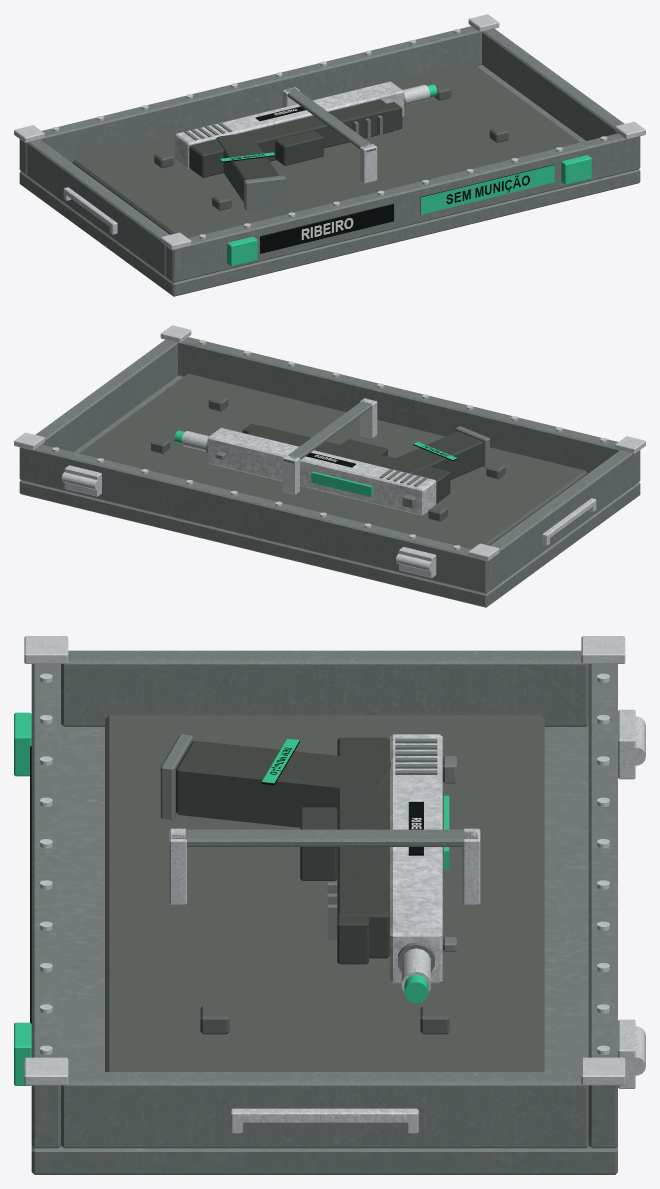
The model's file is ribeiro_arma_final_caixa.glb.
The picture shows the model from 3 angles, top to bottom: view 1: azimuth 30°, elevation 25°; view 2: azimuth 150°, elevation 25°; view 3: azimuth 270°, elevation 25°; orthographic projection. The views are drawn at different scales.
Visible parts, largest first — view 1: RB_Caixa_Transporte, RB_Berco, RB_Arma_Final; view 2: RB_Caixa_Transporte, RB_Berco, RB_Arma_Final; view 3: RB_Caixa_Transporte, RB_Berco, RB_Arma_Final.
Boxes of the visible parts, x1,y1,x2,y2 form: RB_Caixa_Transporte: (14, 14, 645, 296); RB_Berco: (72, 62, 580, 238); RB_Arma_Final: (175, 81, 437, 210); RB_Caixa_Transporte: (14, 325, 645, 607); RB_Berco: (79, 373, 587, 549); RB_Arma_Final: (174, 424, 489, 515); RB_Caixa_Transporte: (14, 636, 645, 1174); RB_Berco: (105, 715, 544, 1071); RB_Arma_Final: (160, 734, 456, 1003).
Bounding box in the file's own units: 0.724 × 0.094 × 0.431.
1 material, 1 textured.
